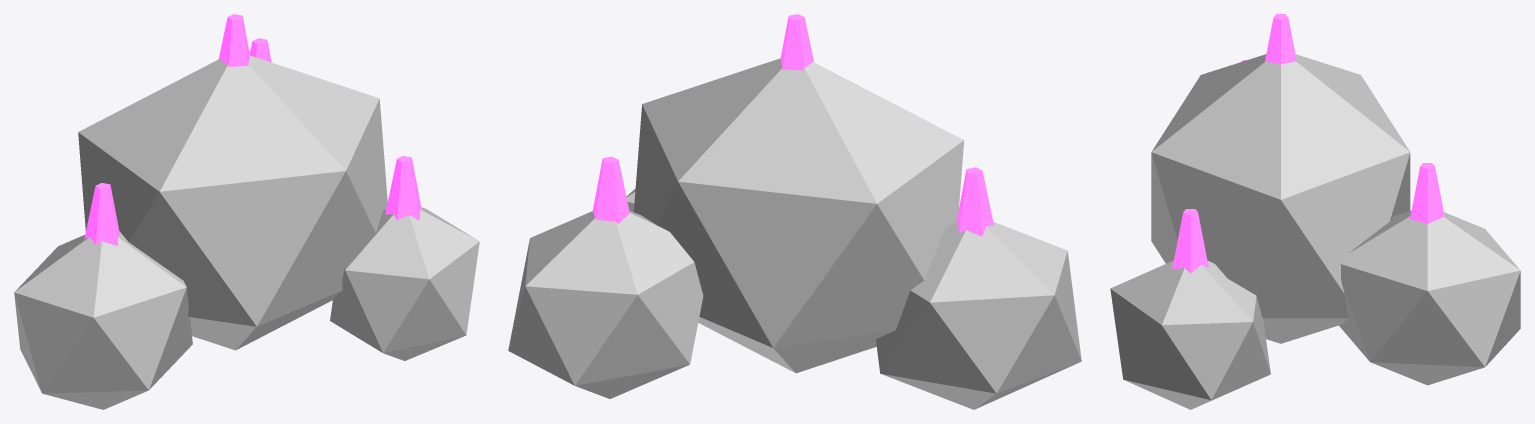
3 views of the same model, side by side, from view 1: azimuth 30°, elevation 25°; view 2: azimuth 150°, elevation 25°; view 3: azimuth 270°, elevation 25° (orthographic). The views are drawn at different scales.
Visible parts, largest first — view 1: Neon_RockCluster_Simple; view 2: Neon_RockCluster_Simple; view 3: Neon_RockCluster_Simple.
Boxes of the visible parts, x1,y1,x2,y2 form: Neon_RockCluster_Simple: [14, 14, 479, 409]; Neon_RockCluster_Simple: [508, 14, 1081, 409]; Neon_RockCluster_Simple: [1110, 14, 1520, 409].
Size of the model in its own units: 2.14 by 1.65 by 1.82.
